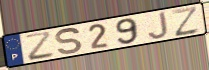2: (88, 22, 110, 50)
9: (115, 18, 140, 46)
J: (147, 10, 170, 40)
S: (54, 27, 84, 55)
Z: (23, 30, 57, 62), (170, 4, 201, 38)
